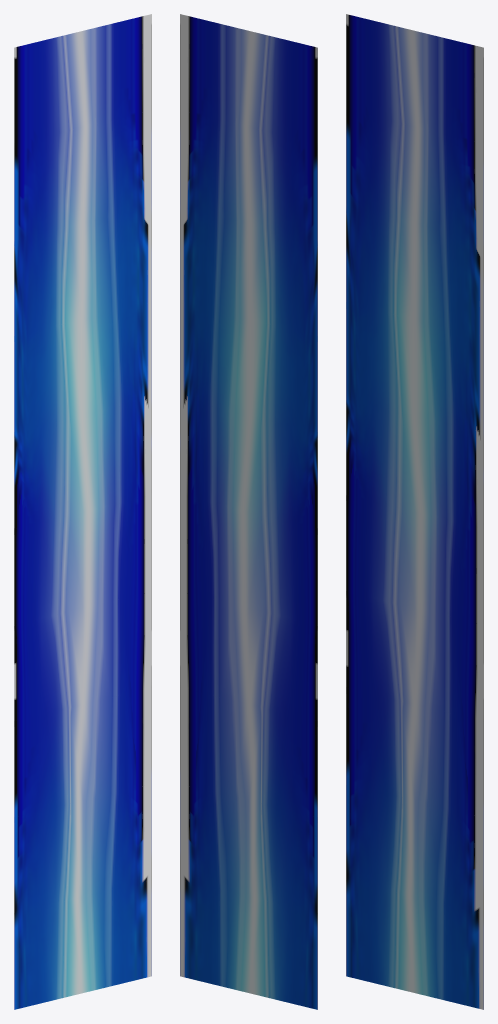
File: Plane_b7426577__effect_lasergun_mod_01_0fb3bb0e_df92e0.obj
3 renders of one model, left to right at view 1: azimuth 30°, elevation 25°; view 2: azimuth 150°, elevation 25°; view 3: azimuth 330°, elevation 25°, orthographic.
Bounding box in the file's own units: 0.6 × 4 × 4.81e-06.
Materials: 1 (1 with a texture image).
